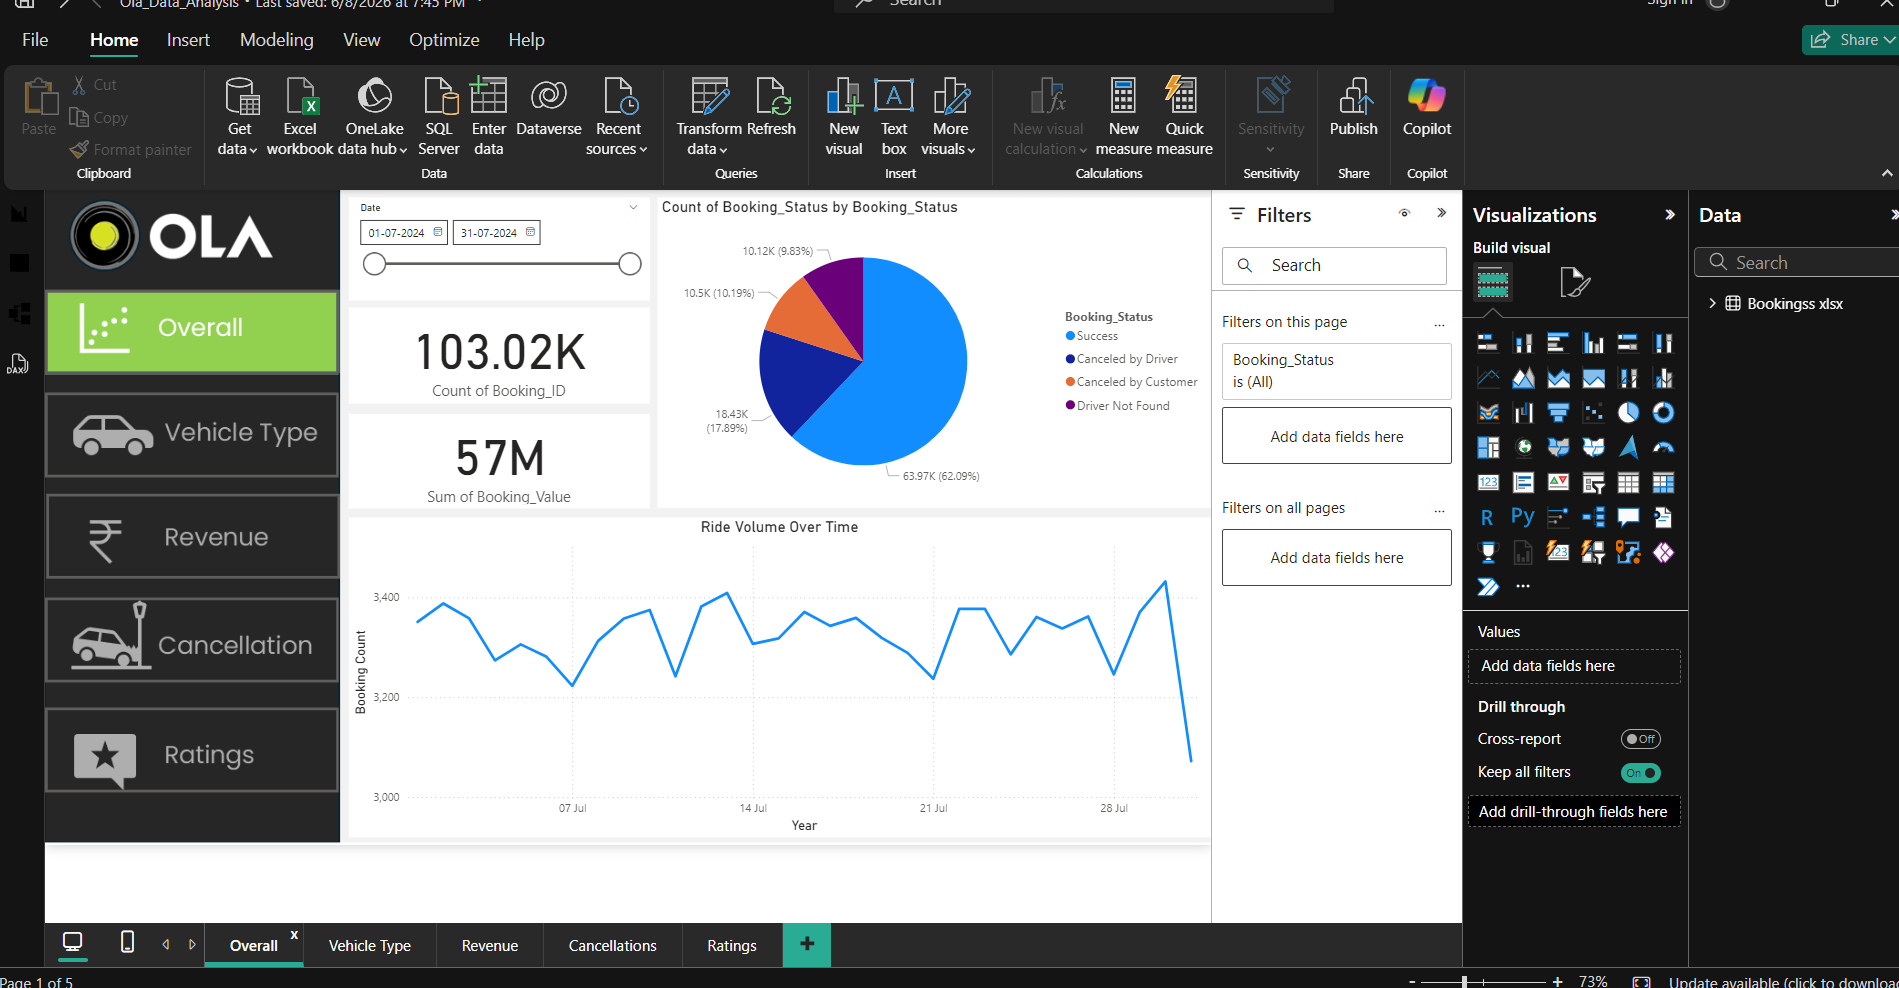

The dashboard page shown, as its layout file describes it:
{"tool":"powerbi","page":{"name":"Overall","canvas":[1280,720],"ordinal":0},"visuals":[{"type":"actionButton","box":[0,222.1,322.7,93.3],"z":0},{"type":"actionButton","box":[1.2,333.7,322.7,93.3],"z":1000},{"type":"actionButton","box":[0,447.9,322.7,93.3],"z":2000},{"type":"actionButton","box":[0,568.1,322.7,93.3],"z":3000},{"type":"actionButton","box":[0,110.4,322.7,93.3],"z":4000},{"type":"lineChart","title":"Ride Volume Over Time","fields":{"Y":["CountNonNull(Bookingss xlsx.Booking_ID)"],"Category":["Bookingss xlsx.Date.Variation.Date Hierarchy.Year","Bookingss xlsx.Date.Variation.Date Hierarchy.Quarter","Bookingss xlsx.Date.Variation.Date Hierarchy.Month","Bookingss xlsx.Date.Variation.Date Hierarchy.Day"]},"box":[333.7,359.5,946,350.9],"z":5000},{"type":"pieChart","fields":{"Category":["Bookingss xlsx.Booking_Status"],"Y":["CountNonNull(Bookingss xlsx.Booking_Status)"]},"box":[672.4,8.6,607.4,341.1],"z":6000},{"type":"card","fields":{"Values":["CountNonNull(Bookingss xlsx.Booking_ID)"]},"box":[333.7,128.8,330.1,105.5],"z":7000},{"type":"slicer","fields":{"Values":["Bookingss xlsx.Date"]},"box":[333.7,8.6,330.1,111.7],"z":8000},{"type":"card","fields":{"Values":["Sum(Bookingss xlsx.Booking_Value)"]},"box":[333.7,245.4,330.1,104.3],"z":9000}]}

Visuals, with their boxes on the page's 1280x720 design canvas (x1, y1, x2, y2). These are canvas units, not pixel positions in the 1899x988 screenshot, which may show the page scaled, cropped or inside an application window:
actionButton: x1=0, y1=222, x2=323, y2=315
actionButton: x1=1, y1=334, x2=324, y2=427
actionButton: x1=0, y1=448, x2=323, y2=541
actionButton: x1=0, y1=568, x2=323, y2=661
actionButton: x1=0, y1=110, x2=323, y2=204
"Ride Volume Over Time" lineChart: x1=334, y1=360, x2=1280, y2=710
pieChart - Bookingss xlsx.Booking_Status x CountNonNull(Bookingss xlsx.Booking_Status): x1=672, y1=9, x2=1280, y2=350
card - CountNonNull(Bookingss xlsx.Booking_ID): x1=334, y1=129, x2=664, y2=234
slicer - Bookingss xlsx.Date: x1=334, y1=9, x2=664, y2=120
card - Sum(Bookingss xlsx.Booking_Value): x1=334, y1=245, x2=664, y2=350
